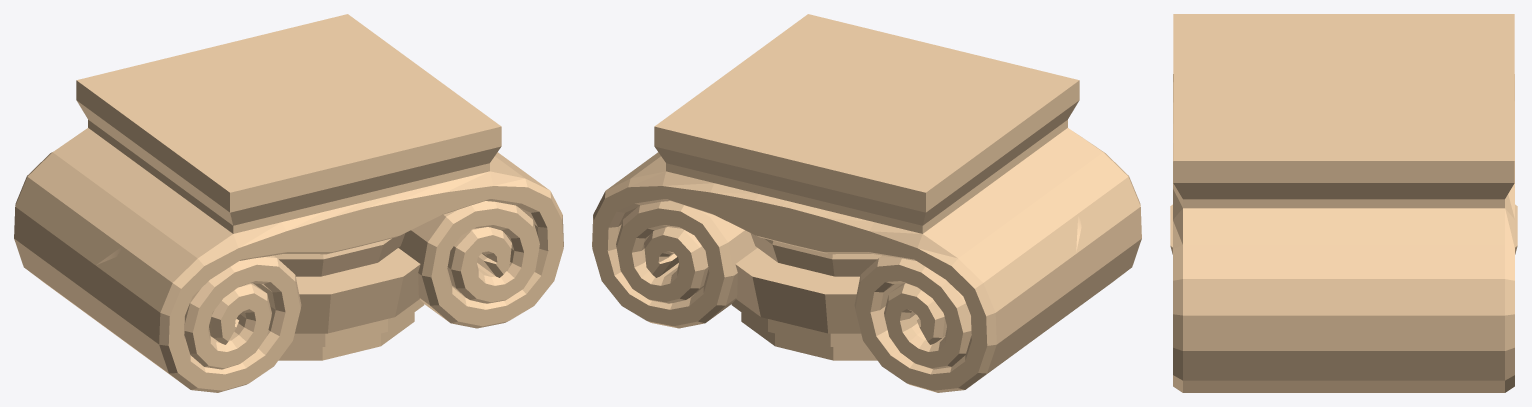
The model's file is column-head-broken.fbx.
3 renders of one model, left to right at view 1: azimuth 30°, elevation 25°; view 2: azimuth 150°, elevation 25°; view 3: azimuth 270°, elevation 25°, orthographic. The views are drawn at different scales.
Parts seen in each view (by area): view 1: column-head_Part_2, column-head_Part_3, column-head_Part_5, column-head_Part_8, column-head_Part_6, column-head_Part_7; view 2: column-head_Part_3, column-head_Part_1, column-head_Part_5, column-head_Part_2, column-head_Part_7; view 3: column-head_Part_5, column-head_Part_3, column-head_Part_1, column-head_Part_6, column-head_Part_4, column-head_Part_2, column-head_Part_8.
Part boxes in pixels (x1=…): column-head_Part_2: x1=116, y1=132, x2=375, y2=392; column-head_Part_3: x1=14, y1=45, x2=292, y2=284; column-head_Part_5: x1=221, y1=14, x2=513, y2=255; column-head_Part_8: x1=349, y1=223, x2=518, y2=353; column-head_Part_6: x1=453, y1=164, x2=563, y2=314; column-head_Part_7: x1=47, y1=247, x2=157, y2=365; column-head_Part_3: x1=781, y1=87, x2=1082, y2=390; column-head_Part_1: x1=592, y1=132, x2=825, y2=358; column-head_Part_5: x1=641, y1=14, x2=949, y2=201; column-head_Part_2: x1=923, y1=48, x2=1141, y2=294; column-head_Part_7: x1=822, y1=216, x2=1105, y2=392; column-head_Part_5: x1=1173, y1=73, x2=1514, y2=332; column-head_Part_3: x1=1263, y1=14, x2=1517, y2=217; column-head_Part_1: x1=1431, y1=145, x2=1517, y2=392; column-head_Part_6: x1=1173, y1=209, x2=1280, y2=392; column-head_Part_4: x1=1303, y1=271, x2=1440, y2=392; column-head_Part_2: x1=1170, y1=14, x2=1276, y2=230; column-head_Part_8: x1=1170, y1=230, x2=1330, y2=392.
Size of the model in its own units: 103 by 49.83 by 69.25.
Materials: 1 (1 with a texture image).
